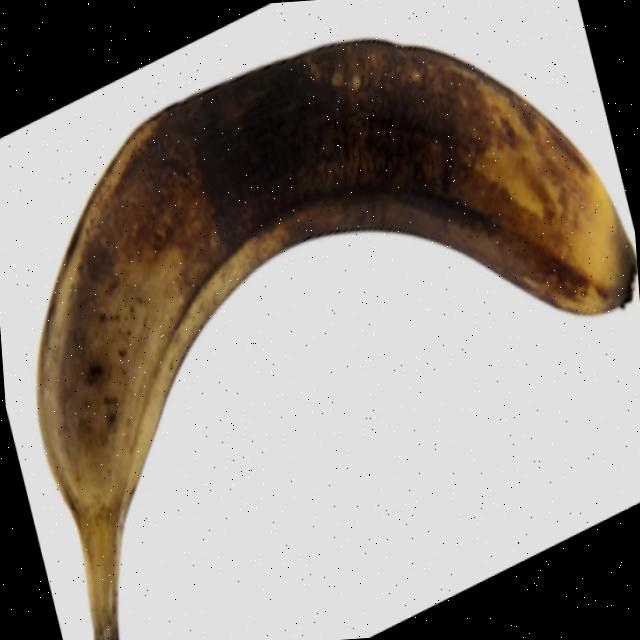Rotten: (15, 21, 640, 640)
